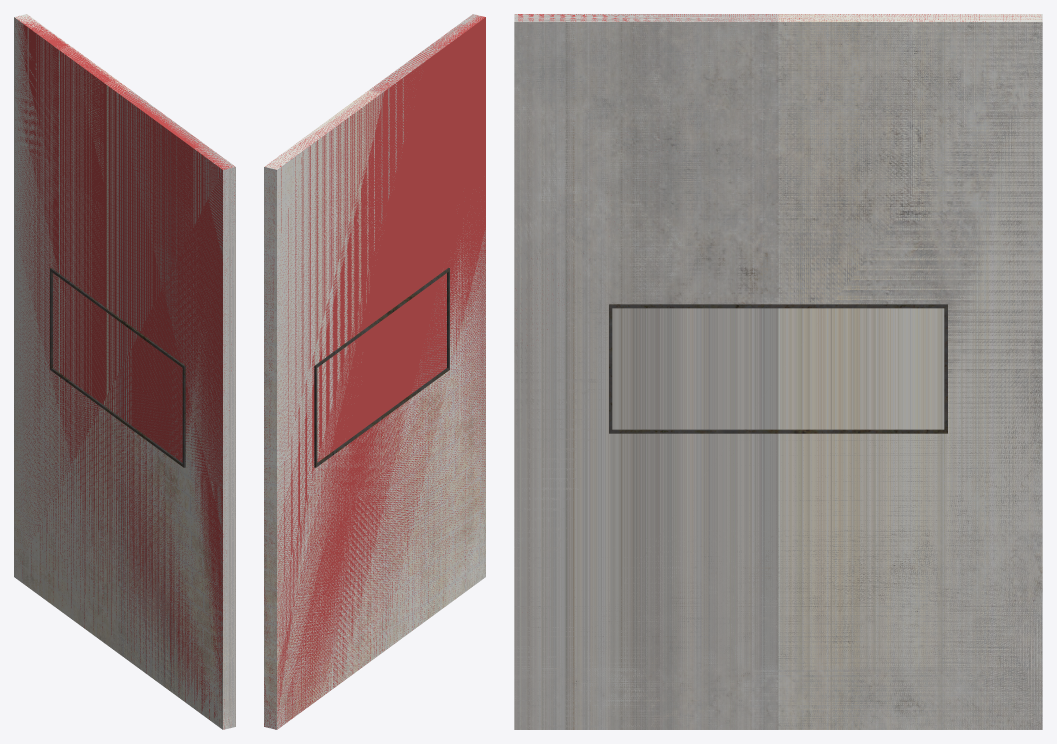
Rendered from warehouse_wall_window.DAE.
3 renders of one model, left to right at view 1: azimuth 30°, elevation 25°; view 2: azimuth 150°, elevation 25°; view 3: azimuth 270°, elevation 25°, orthographic. The views are drawn at different scales.
Parts seen in each view (by area): view 1: bounds, colbox-02, warehouse_wall_window, Window; view 2: bounds, warehouse_wall_window, colbox-02, Window; view 3: colbox-02, warehouse_wall_window, Window, bounds.
Boxes of the visible parts, x1,y1,x2,y2 form: bounds: [15, 16, 234, 729]; colbox-02: [14, 14, 235, 729]; warehouse_wall_window: [14, 152, 235, 729]; Window: [50, 268, 185, 467]; bounds: [264, 15, 485, 729]; warehouse_wall_window: [264, 98, 485, 729]; colbox-02: [264, 14, 485, 712]; Window: [314, 268, 449, 467]; colbox-02: [514, 14, 1042, 729]; warehouse_wall_window: [514, 22, 1042, 729]; Window: [609, 304, 947, 433]; bounds: [515, 14, 1041, 345].
Bounding box in the file's own units: 30.07 × 676 × 1000.
